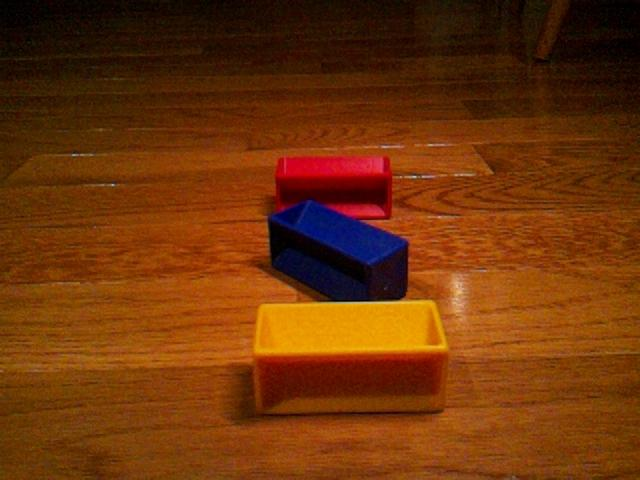blue: (267, 197, 410, 302)
red: (274, 154, 394, 221)
yellow: (252, 299, 450, 416)
